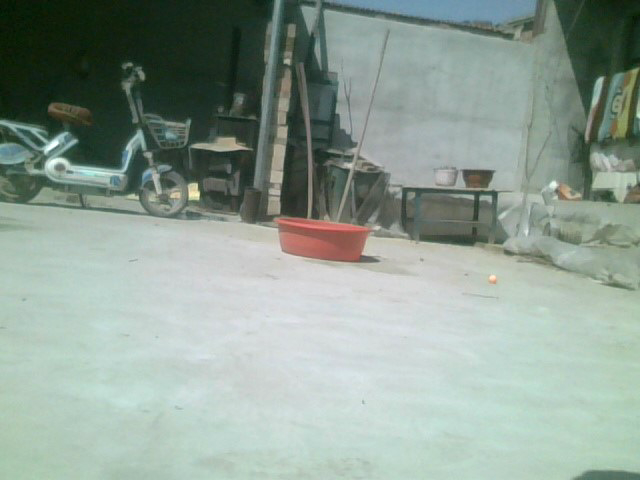ball: (485, 271, 496, 282)
